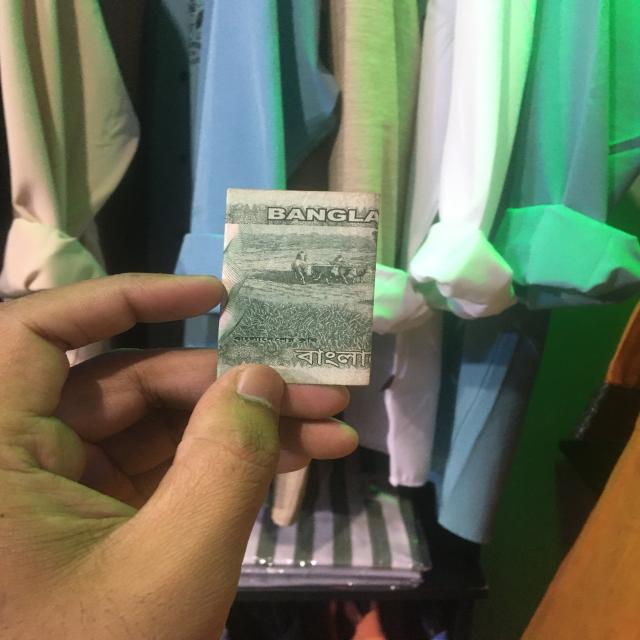Taka: (221, 190, 378, 384)
